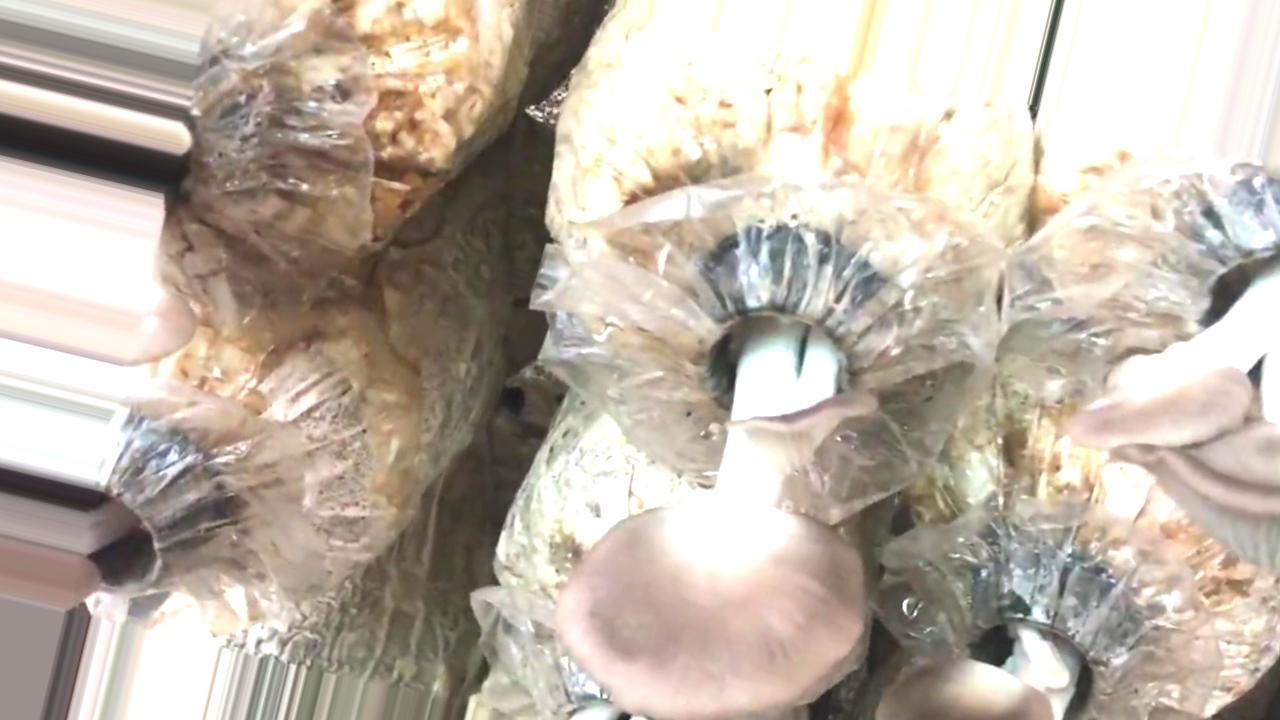nam: (553, 232, 886, 720), (1067, 202, 1280, 565), (880, 557, 1135, 720), (1, 420, 210, 614), (125, 281, 191, 363)
